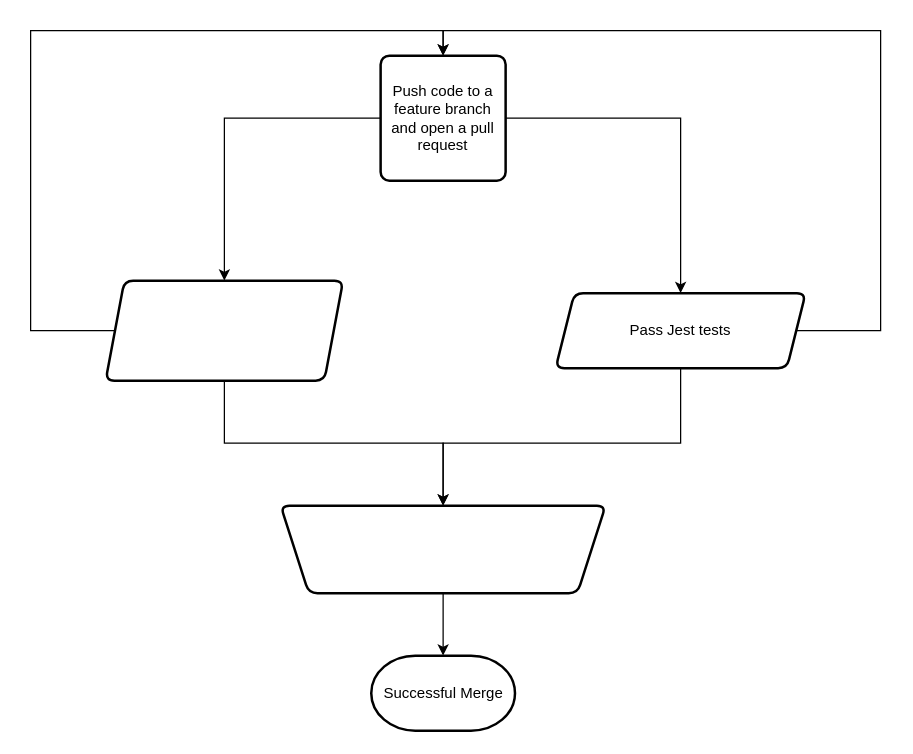
Image size: 913x754. Some labels were removed from this diagram. Each missing label, with the box of its shape:
At least 1 external review & approval on Pull Request before merge: (279, 504, 606, 594)
Pass ESLint test on js files and Prettier format check on all files: (104, 279, 344, 381)
